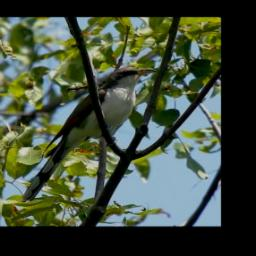Cuckoo: (21, 65, 158, 203)
